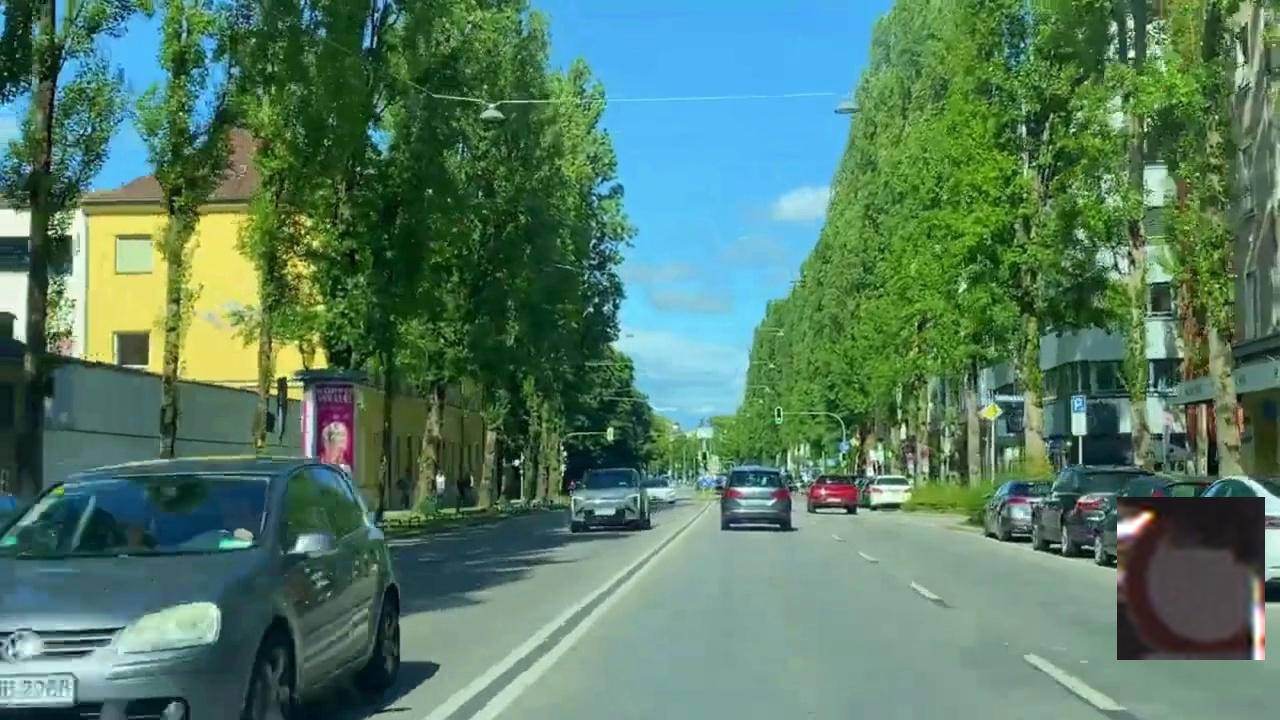No vehicles: (1117, 497, 1265, 660)
